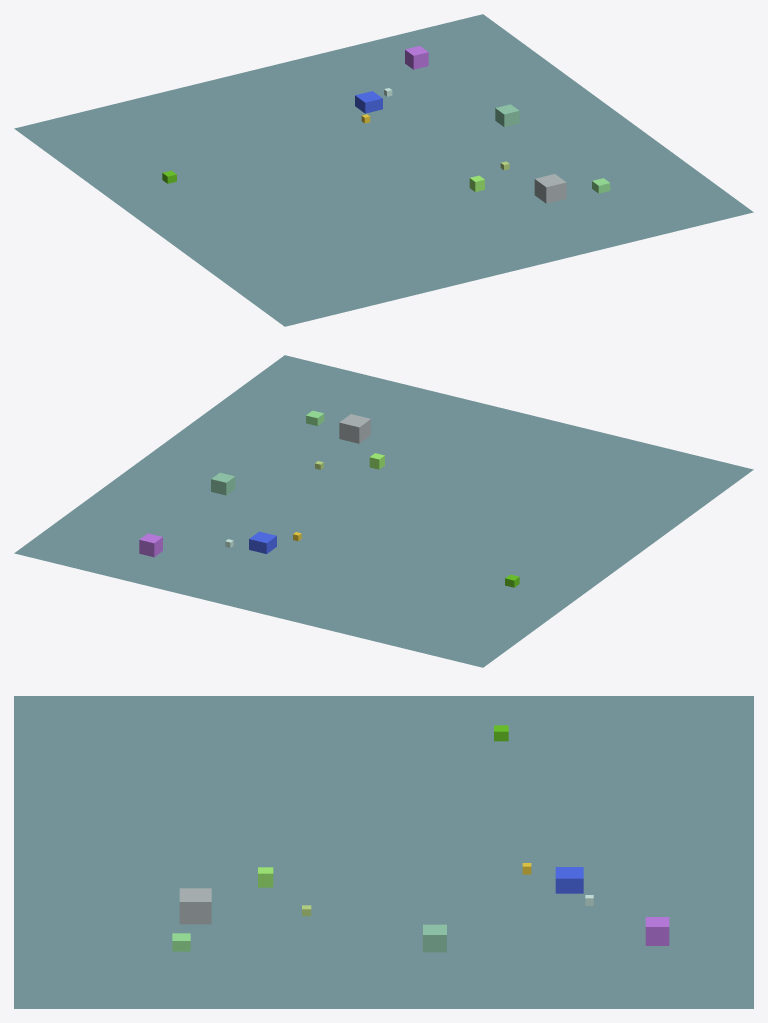
The picture shows the model from 3 angles, top to bottom: view 1: azimuth 30°, elevation 25°; view 2: azimuth 150°, elevation 25°; view 3: azimuth 270°, elevation 25°; orthographic projection. The views are drawn at different scales.
Parts seen in each view (by area): view 1: Chunk_-2_-1; view 2: Chunk_-2_-1; view 3: Chunk_-2_-1.
Boxes of the visible parts, left/top/right/bottom form: Chunk_-2_-1: left=14, top=14, right=753, bottom=326; Chunk_-2_-1: left=14, top=355, right=753, bottom=667; Chunk_-2_-1: left=14, top=696, right=753, bottom=1008.
Size of the model in its own units: 1500 by 73.54 by 1500.
